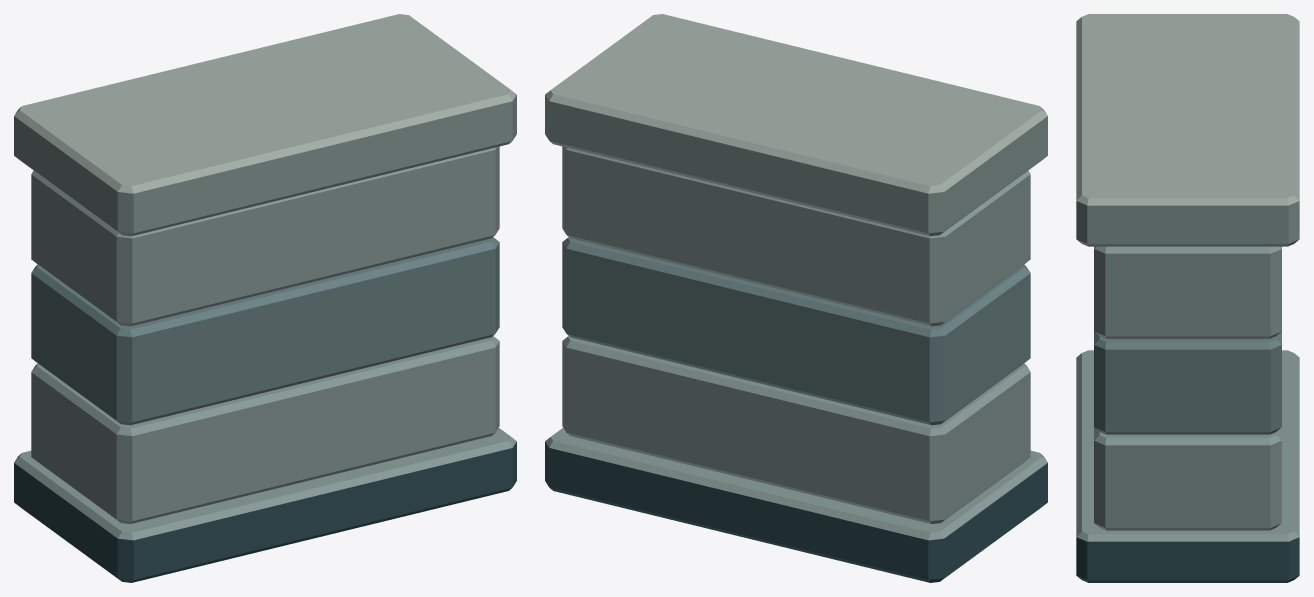
File: wall-short.glb
3 views of the same model, side by side, from view 1: azimuth 30°, elevation 25°; view 2: azimuth 150°, elevation 25°; view 3: azimuth 270°, elevation 25° (orthographic). The views are drawn at different scales.
Visible parts, largest first — view 1: wall-short__body; view 2: wall-short__body; view 3: wall-short__body.
Part boxes in pixels (<box>): wall-short__body: <box>14,14,516,582</box>; wall-short__body: <box>545,14,1047,582</box>; wall-short__body: <box>1076,14,1299,582</box>.
Bounding box in the file's own units: 1 × 0.95 × 0.5.
